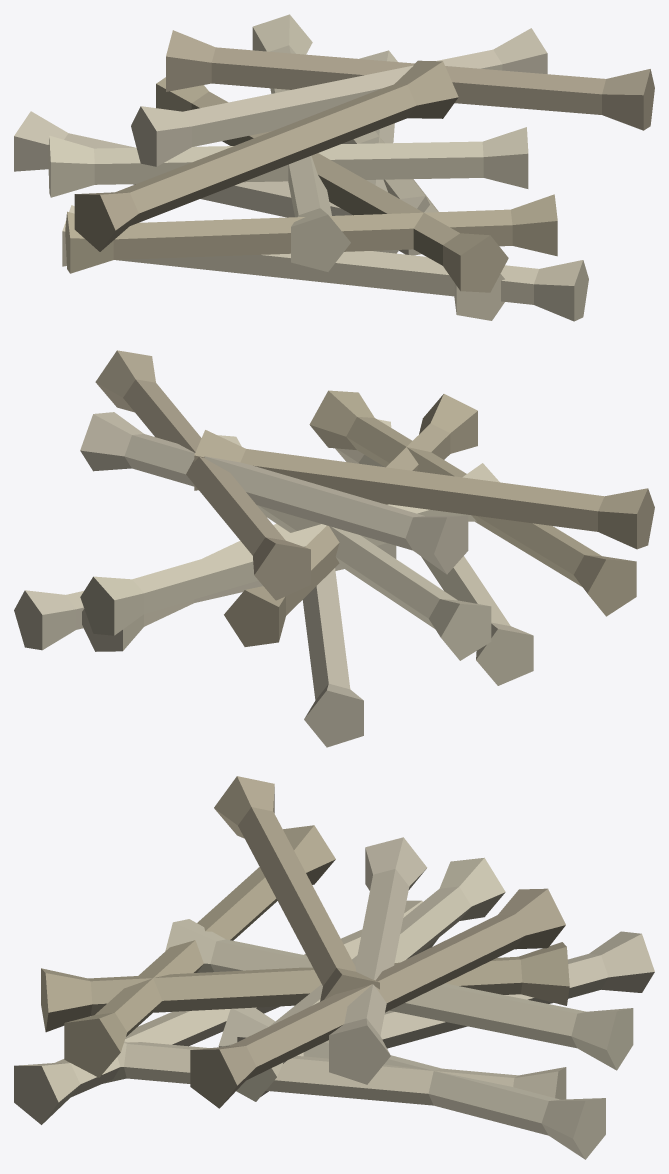
Rendered from storage_bone.glb.
The picture shows the model from 3 angles, top to bottom: view 1: azimuth 30°, elevation 25°; view 2: azimuth 150°, elevation 25°; view 3: azimuth 270°, elevation 25°; orthographic projection. The views are drawn at different scales.
Parts seen in each view (by area): view 1: storage_bone; view 2: storage_bone; view 3: storage_bone.
Boxes of the visible parts, x1,y1,x2,y2 form: storage_bone: [14, 14, 654, 321]; storage_bone: [14, 350, 654, 747]; storage_bone: [14, 776, 654, 1159].
Bounding box in the file's own units: 1.17 × 0.2941 × 1.12.
